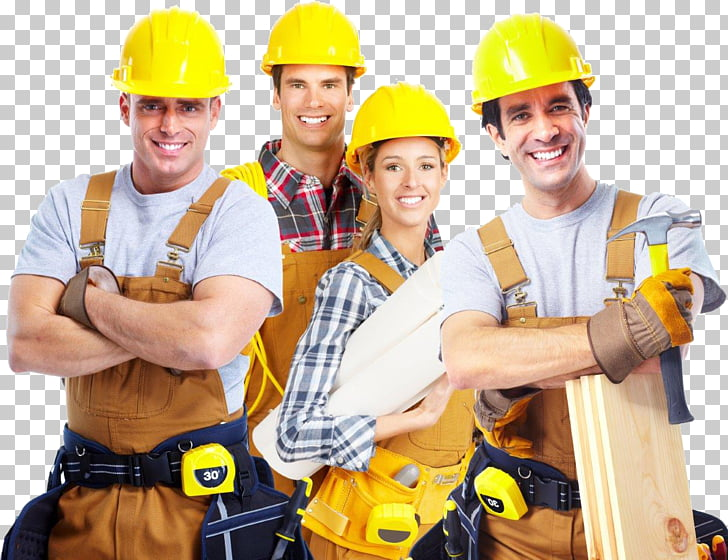casco: (469, 12, 598, 117), (343, 80, 462, 183), (109, 4, 234, 100), (259, 1, 367, 80)
